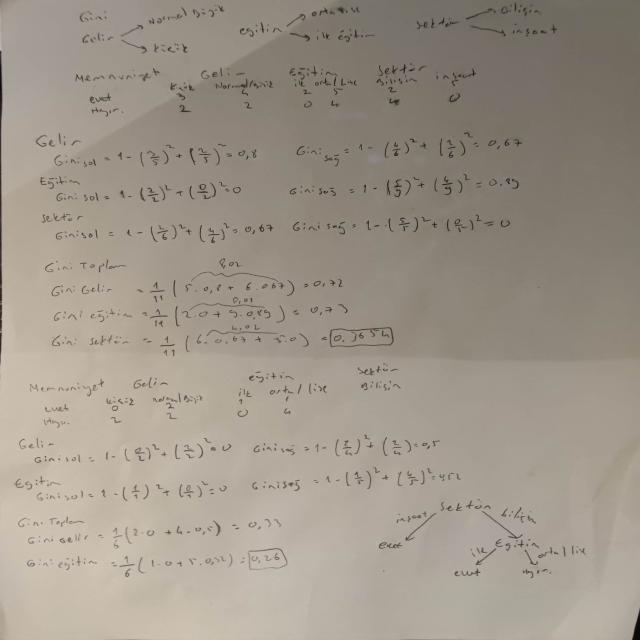math: (144, 254, 354, 304), (289, 128, 533, 171), (149, 321, 402, 359), (45, 139, 265, 178), (100, 513, 292, 556), (286, 213, 518, 243), (110, 547, 298, 584), (281, 174, 525, 201), (52, 183, 250, 211), (53, 222, 278, 244), (140, 304, 354, 326), (322, 466, 470, 496), (103, 439, 238, 469), (303, 433, 442, 462), (97, 482, 237, 504)
